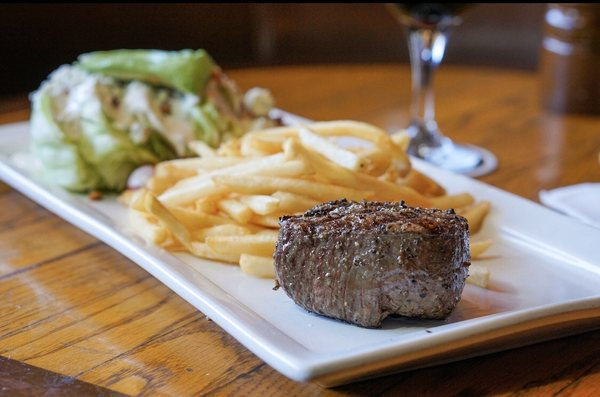curry: (3, 45, 591, 390)
sandwich: (381, 3, 497, 179)
